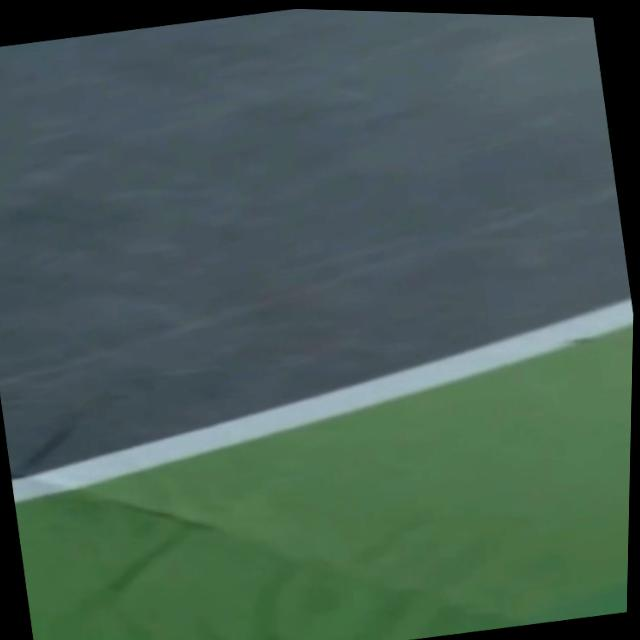right: (11, 297, 633, 502)
